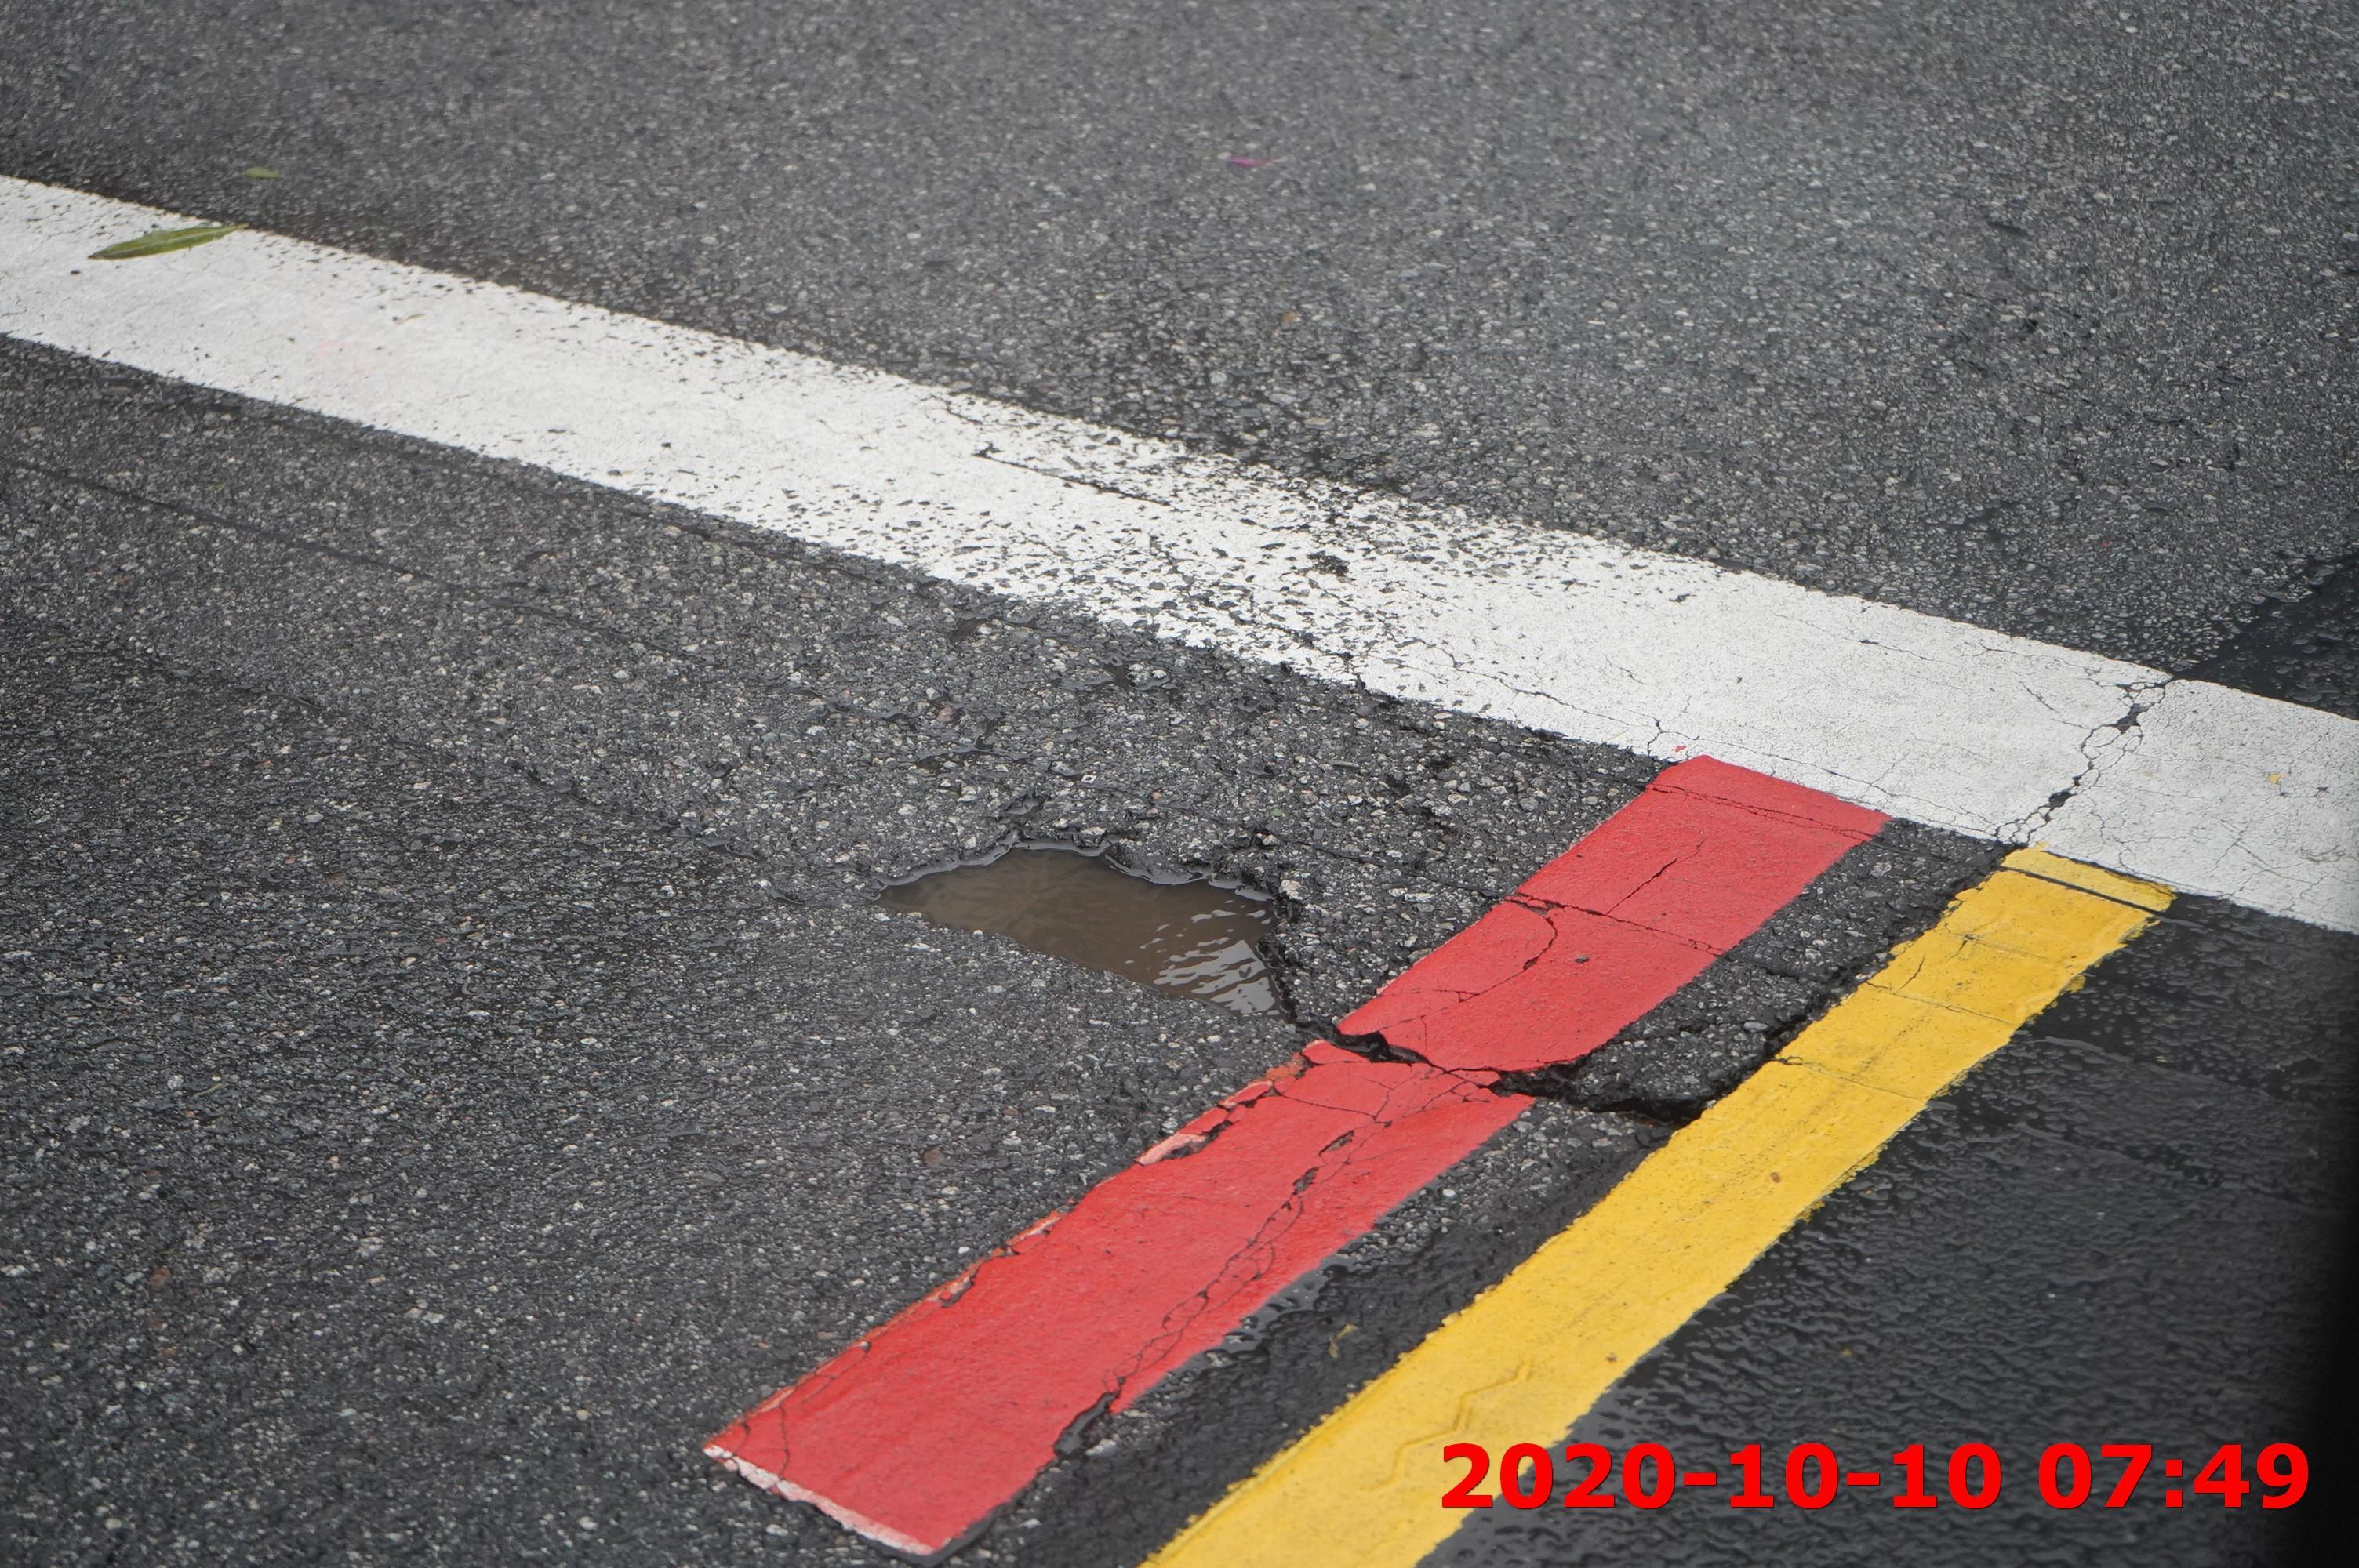alligator crack: (558, 567, 1596, 838)
pothole with crack: (815, 777, 1351, 1039)
